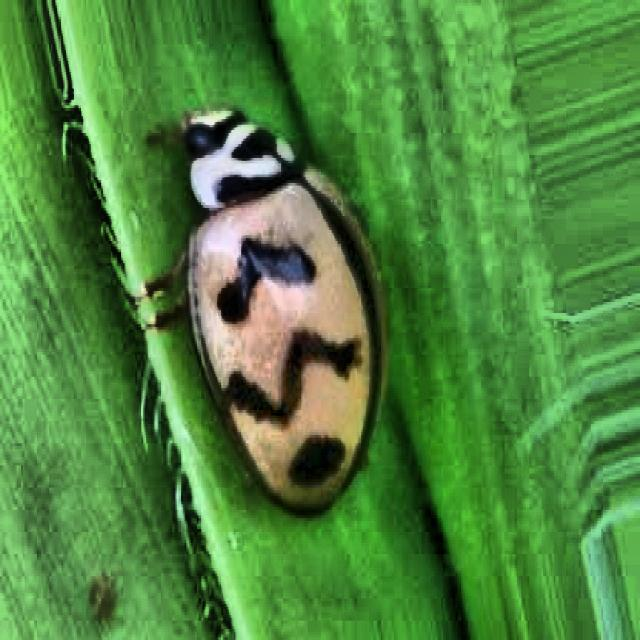Asian-Lady-beetle: (113, 65, 400, 547)
